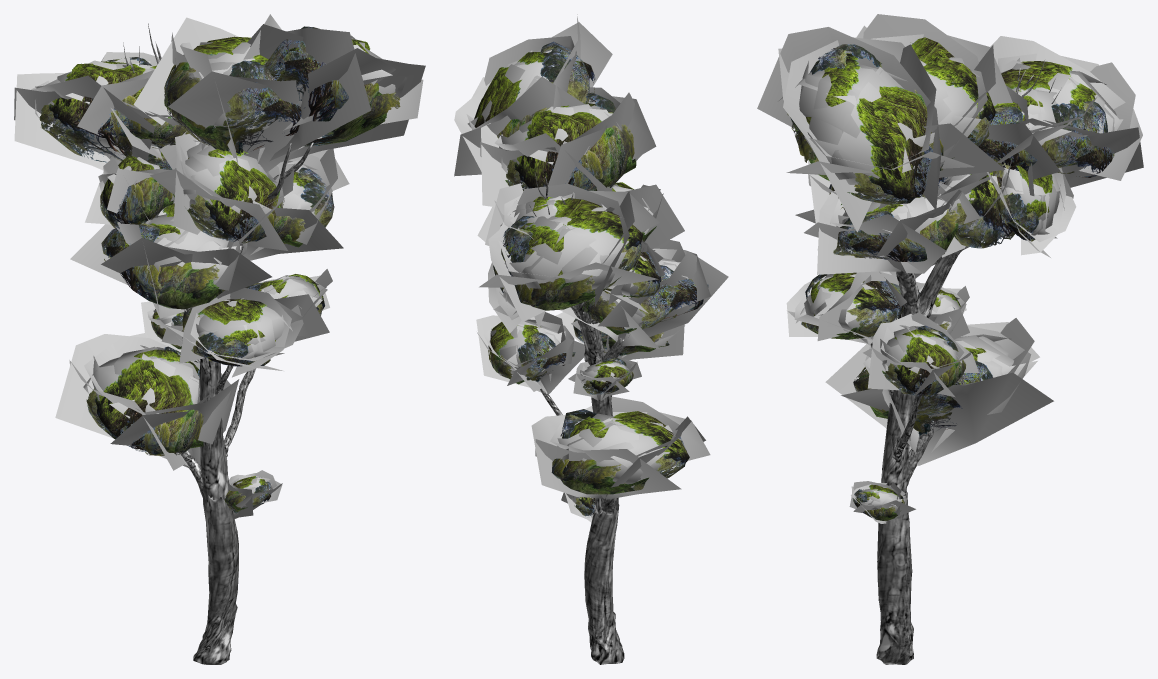
File: ETP_TreePinus_01_OP.fbx
3 views of the same model, side by side, from view 1: azimuth 30°, elevation 25°; view 2: azimuth 150°, elevation 25°; view 3: azimuth 270°, elevation 25° (orthographic). The views are drawn at different scales.
Parts seen in each view (by area): view 1: ETP_TreePinus_01_LOD00; view 2: ETP_TreePinus_01_LOD00; view 3: ETP_TreePinus_01_LOD00.
Boxes of the visible parts, x1,y1,x2,y2 form: ETP_TreePinus_01_LOD00: [14, 14, 425, 664]; ETP_TreePinus_01_LOD00: [454, 14, 728, 664]; ETP_TreePinus_01_LOD00: [757, 14, 1143, 664].
Size of what is drawn, in the model's own units: 1932 by 3964 by 2078.
